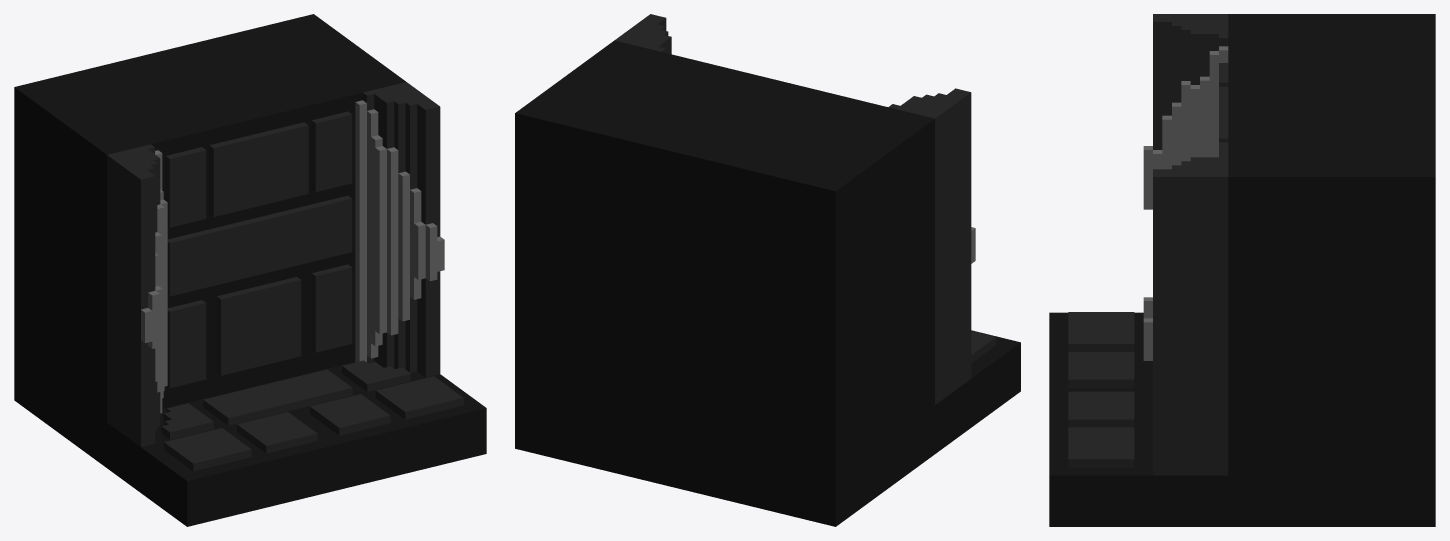
Rendered from Wall1.obj.
3 views of the same model, side by side, from view 1: azimuth 30°, elevation 25°; view 2: azimuth 150°, elevation 25°; view 3: azimuth 270°, elevation 25° (orthographic). The views are drawn at different scales.
Bounding box in the file's own units: 41 × 41 × 41.
1 material, 1 textured.
